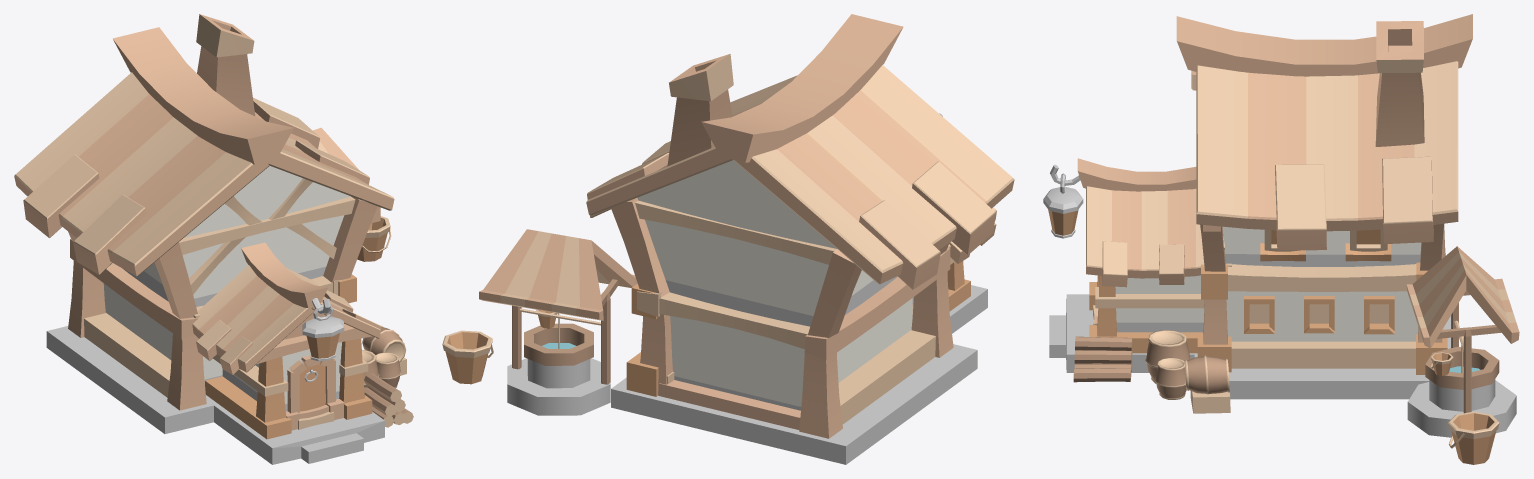
The model's file is house01level05.fbx.
3 views of the same model, side by side, from view 1: azimuth 30°, elevation 25°; view 2: azimuth 150°, elevation 25°; view 3: azimuth 270°, elevation 25° (orthographic). The views are drawn at different scales.
Parts seen in each view (by area): view 1: pCube5 (×2), pCube1, polySurface110, polySurface5, pCube4 (×2), polySurface71, polySurface139, polySurface57, polySurface128, pTorus5, polySurface114, polySurface105 (+22 smaller); view 2: pCube5, polySurface110, pCube1, polySurface105, polySurface5, polySurface372, polySurface373, polySurface71, pCube4, polySurface139, polySurface57, polySurface36 (+11 smaller); view 3: pCube4 (×2), polySurface5, pCube1, polySurface105, polySurface71, polySurface373, polySurface372, polySurface18, polySurface14, polySurface379, polySurface110, polySurface136 (+19 smaller).
Part boxes in pixels (<box>): pCube5 (×2): <box>14,72,314,374</box>; pCube1: <box>46,326,384,464</box>; polySurface110: <box>123,165,350,306</box>; polySurface5: <box>112,27,293,164</box>; pCube4 (×2): <box>253,97,394,338</box>; polySurface71: <box>196,14,255,115</box>; polySurface139: <box>84,313,171,397</box>; polySurface57: <box>70,239,198,339</box>; polySurface128: <box>179,196,355,254</box>; pTorus5: <box>241,242,330,314</box>; polySurface114: <box>167,333,206,410</box>; polySurface105: <box>103,283,222,382</box>; pCube5: <box>733,65,1014,289</box>; polySurface110: <box>637,160,897,326</box>; pCube1: <box>611,285,987,464</box>; polySurface105: <box>670,298,912,410</box>; polySurface5: <box>701,14,903,162</box>; polySurface372: <box>479,229,637,320</box>; polySurface373: <box>507,323,610,415</box>; polySurface71: <box>667,54,733,166</box>; pCube4: <box>586,75,797,217</box>; polySurface139: <box>838,330,935,424</box>; polySurface57: <box>805,248,950,359</box>; polySurface36: <box>659,292,809,349</box>; pCube4 (×2): <box>1086,61,1458,287</box>; polySurface5: <box>1176,14,1472,76</box>; pCube1: <box>1049,294,1450,399</box>; polySurface105: <box>1226,291,1418,341</box>; polySurface71: <box>1375,21,1424,146</box>; polySurface373: <box>1407,346,1516,437</box>; polySurface372: <box>1406,246,1519,348</box>; polySurface18: <box>1231,341,1415,368</box>; polySurface14: <box>1203,261,1416,291</box>; polySurface379: <box>1145,330,1230,413</box>; polySurface110: <box>1222,226,1421,266</box>; polySurface136: <box>1115,275,1204,332</box>.
Size of the model in its own units: 14.51 by 10.91 by 13.84.
